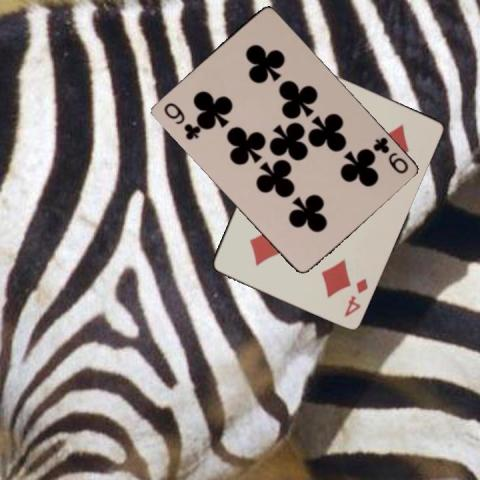4d: (341, 274, 369, 318)
9c: (160, 99, 200, 142), (369, 134, 410, 175)
